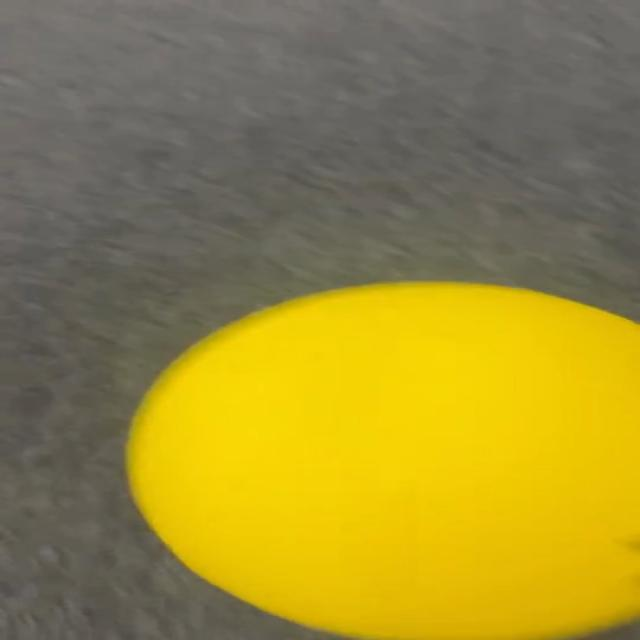Fuels: (128, 280, 640, 636)
